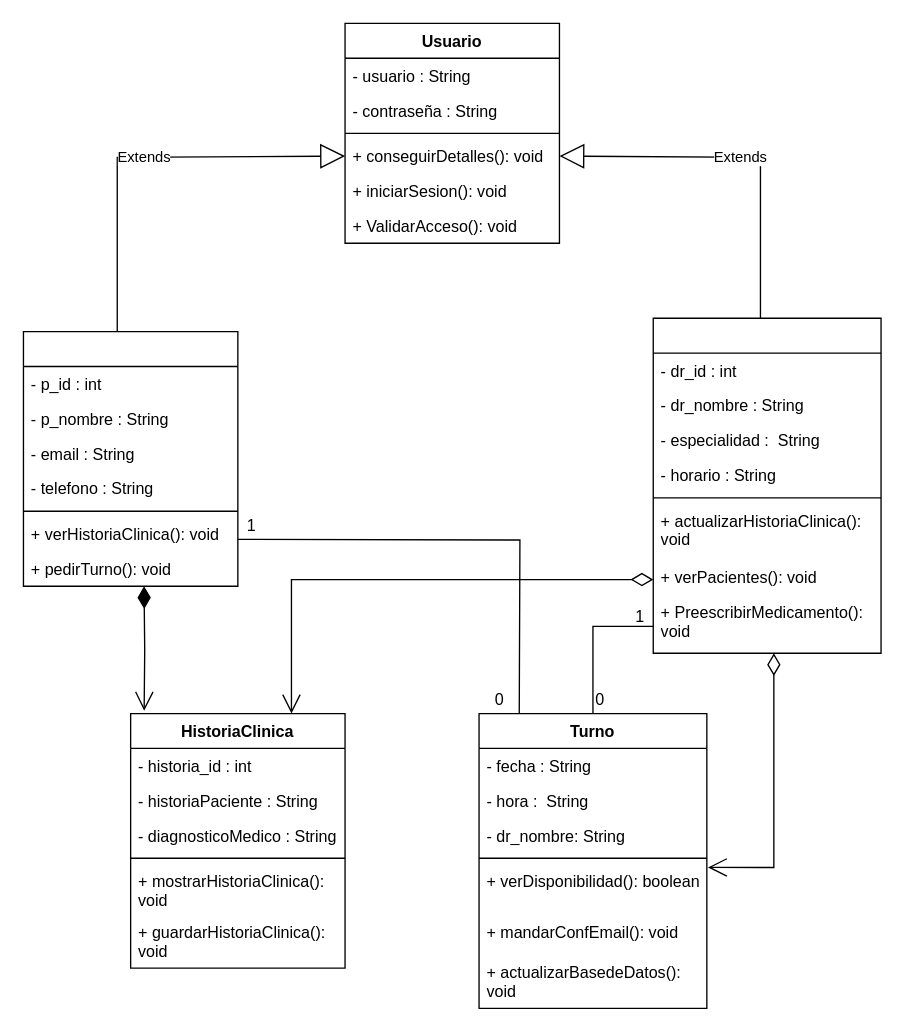
The diagram is 905 pixels wide and 1036 high, and some of its shapes have lost their labels. Each missing label, with the box of its shape:
Medico: (652, 317, 881, 653)
Paciente: (22, 330, 238, 586)
